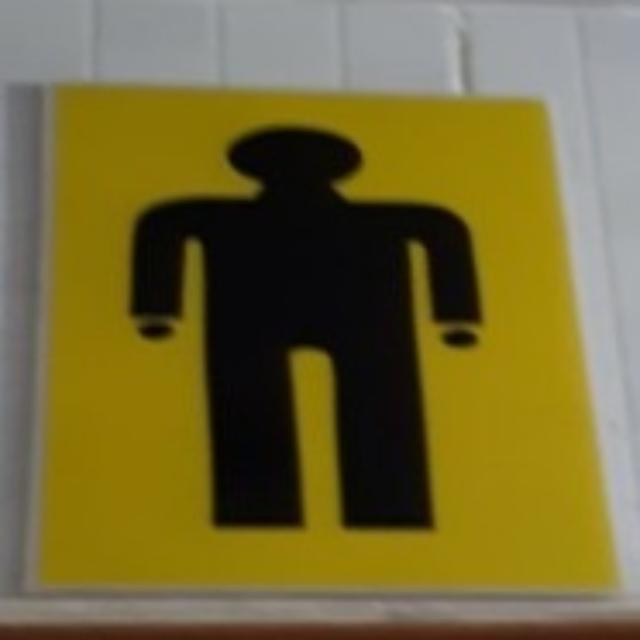mens_restroom: (34, 86, 612, 585)
